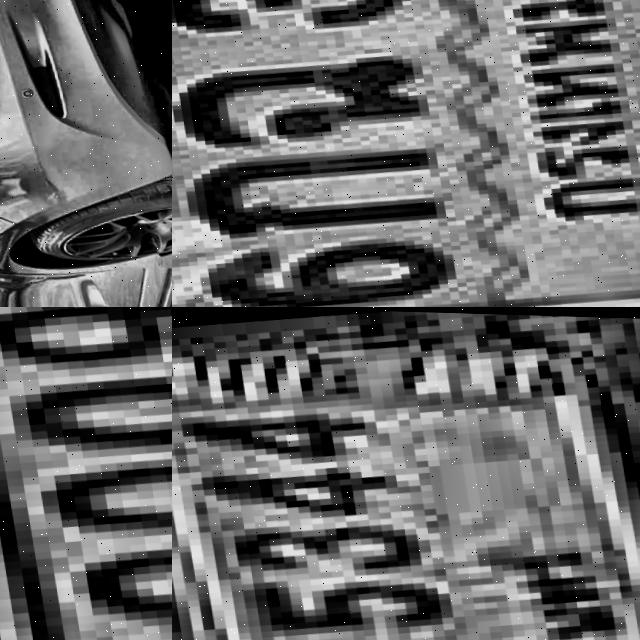license-plate: (172, 307, 640, 640), (172, 0, 640, 307), (0, 307, 172, 640)
